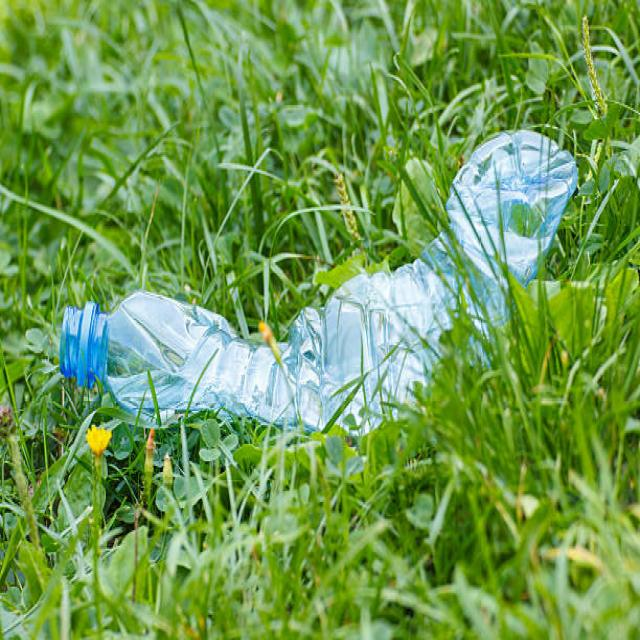plastic: (65, 274, 539, 439)
